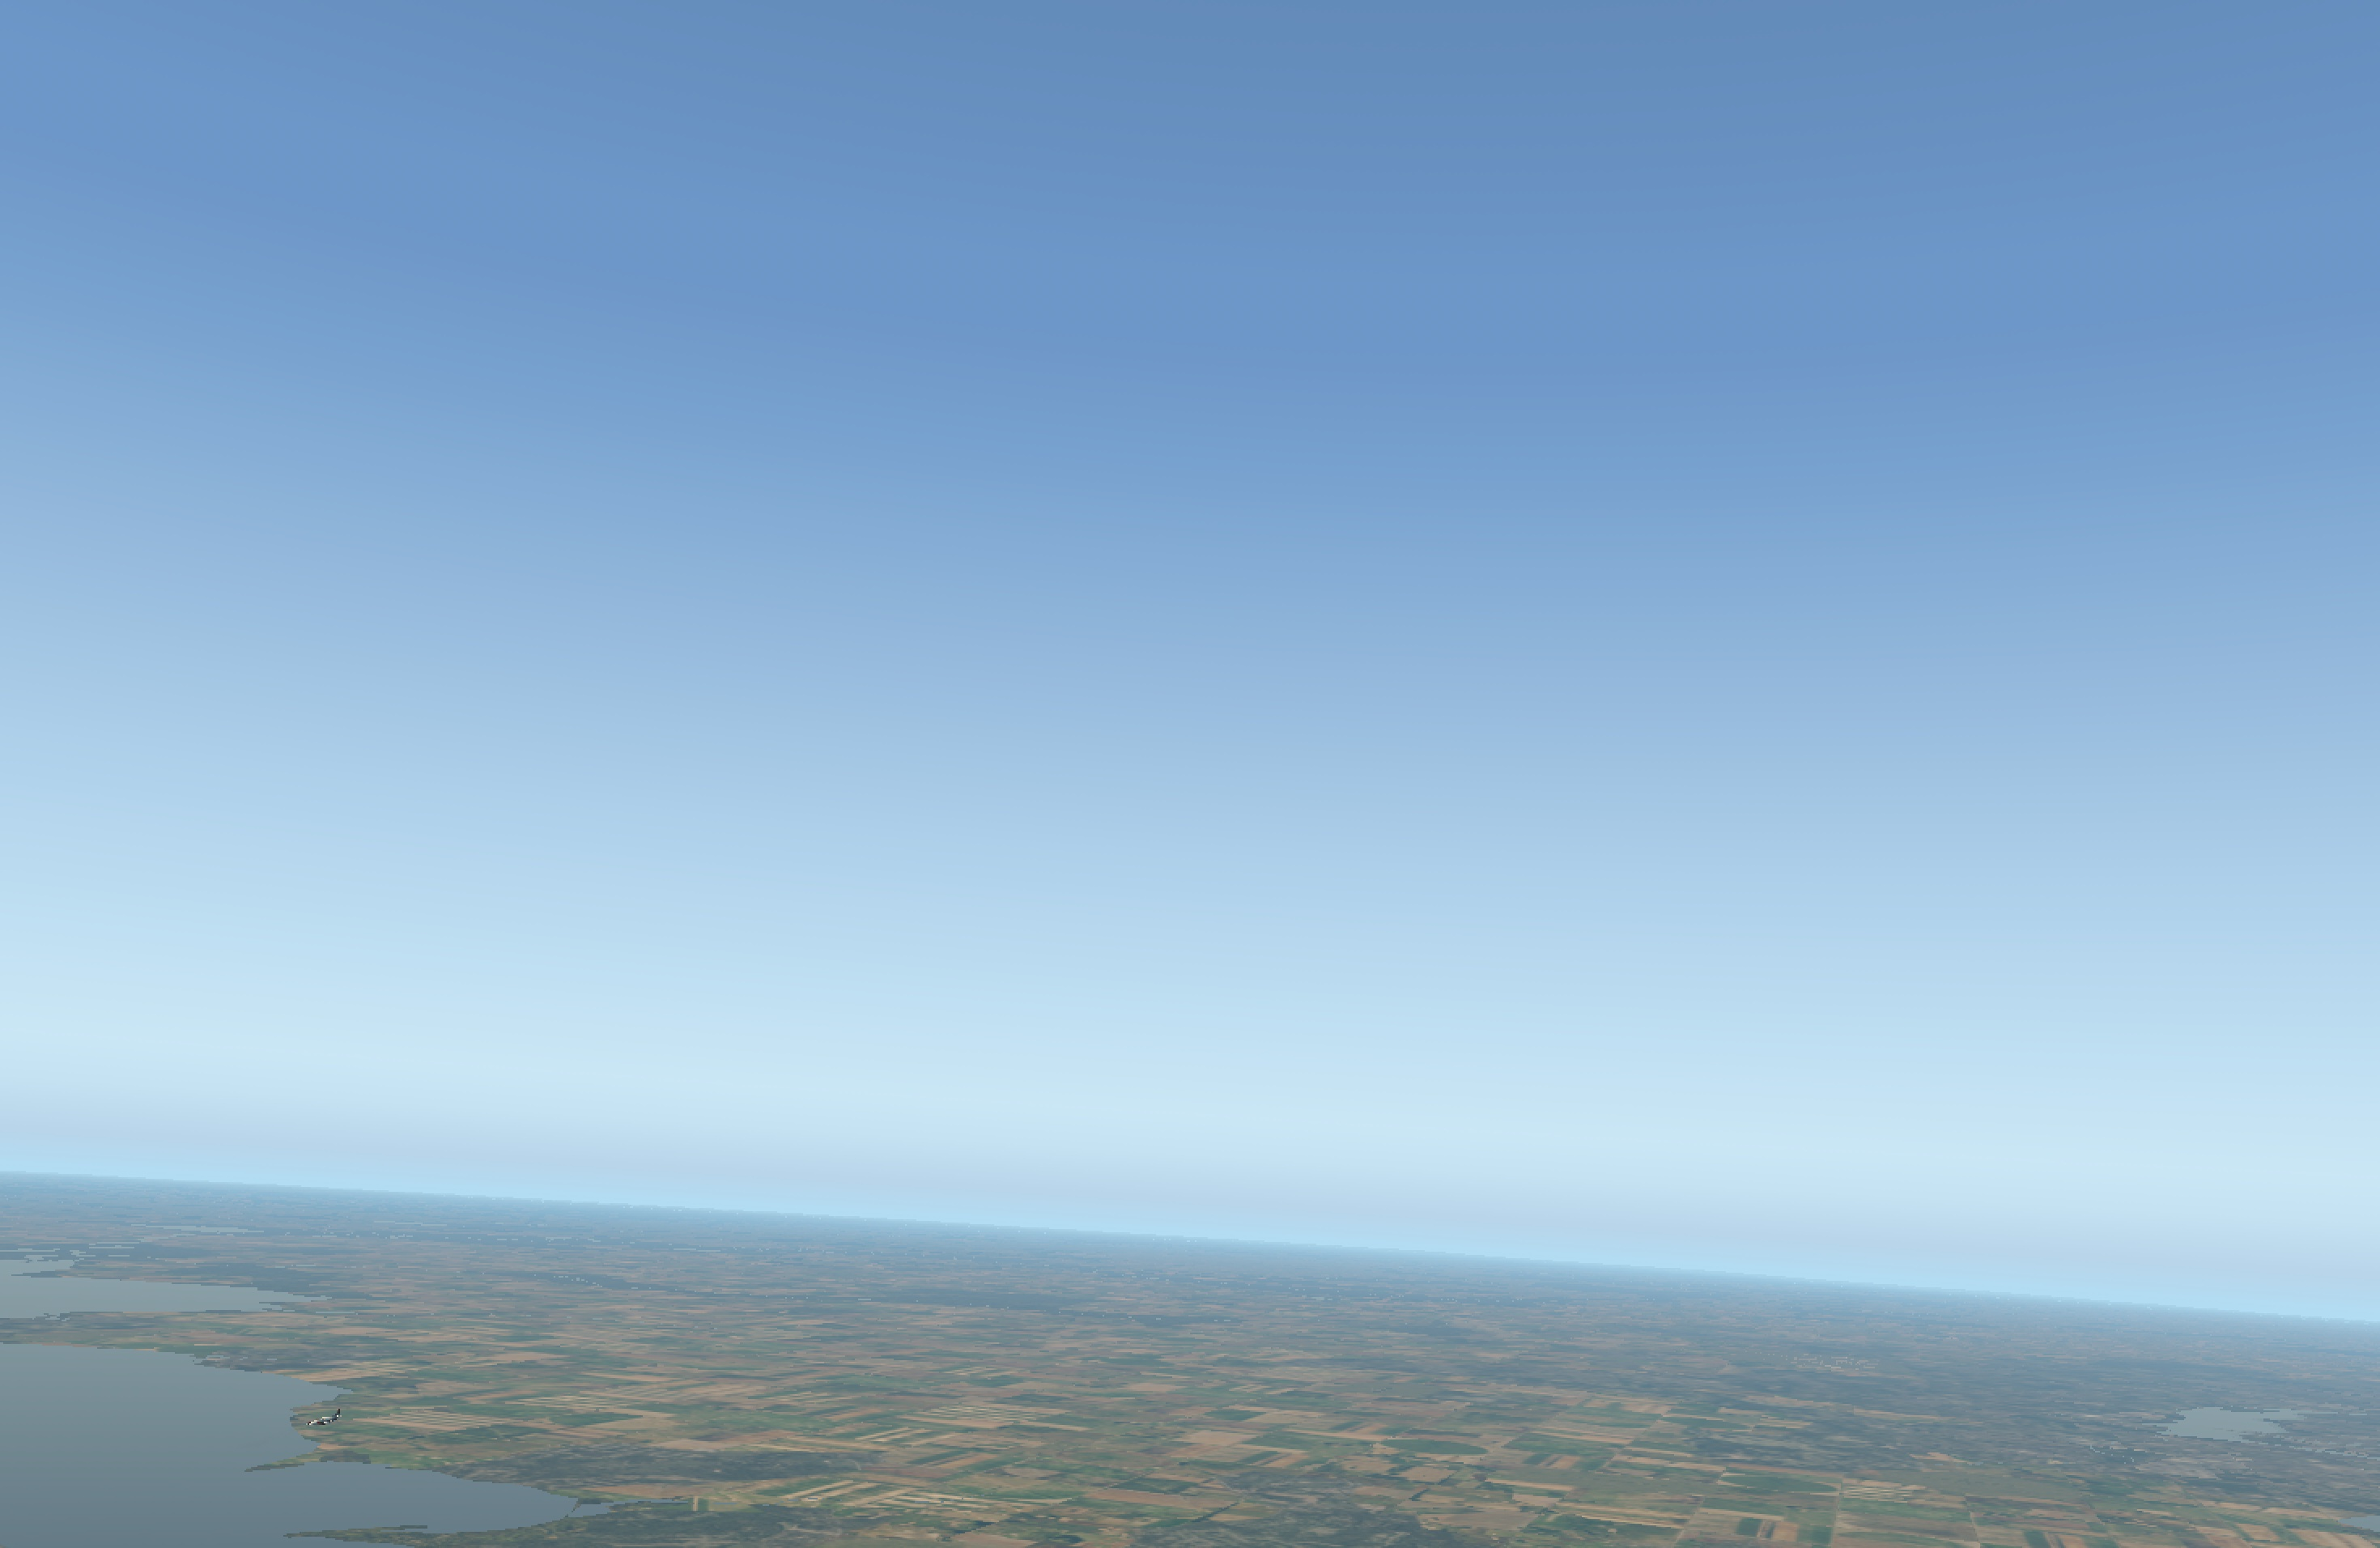aircraft: (295, 1414, 343, 1433)
